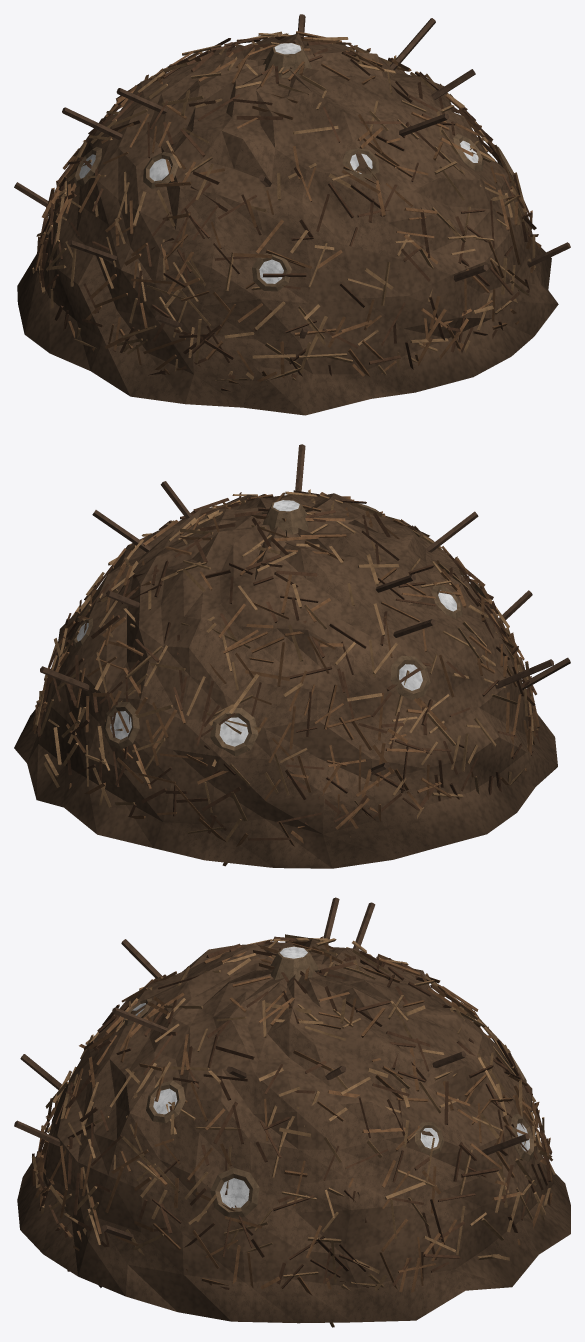
File: gang_colonie_3.glb
3 views of the same model, one above another, from view 1: azimuth 30°, elevation 25°; view 2: azimuth 150°, elevation 25°; view 3: azimuth 270°, elevation 25° (orthographic). The views are drawn at different scales.
Parts seen in each view (by area): view 1: habitat_colonie; view 2: habitat_colonie; view 3: habitat_colonie.
Part boxes in pixels (bbox=[...]): habitat_colonie: bbox=[14, 14, 570, 415]; habitat_colonie: bbox=[14, 444, 570, 868]; habitat_colonie: bbox=[14, 897, 570, 1327].
Bounding box in the file's own units: 55.35 × 28.62 × 54.28.
7 materials, 7 textured.
